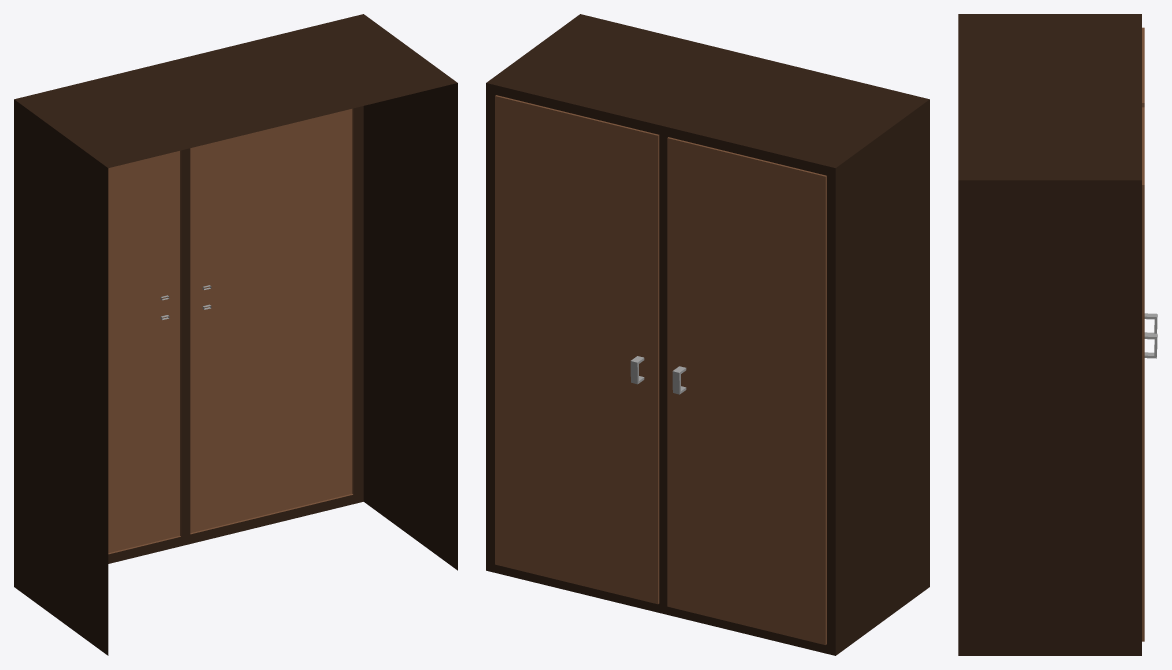
Rendered from dresser_02.fbx.
The picture shows the model from 3 angles, left to right: view 1: azimuth 30°, elevation 25°; view 2: azimuth 150°, elevation 25°; view 3: azimuth 270°, elevation 25°; orthographic projection. The views are drawn at different scales.
Parts seen in each view (by area): view 1: Dresser; view 2: Dresser; view 3: Dresser.
Part boxes in pixels (x1=…): Dresser: x1=14, y1=14, x2=457, y2=655; Dresser: x1=486, y1=14, x2=929, y2=655; Dresser: x1=958, y1=14, x2=1157, y2=655.
Size of the model in its own units: 150 by 200 by 75.91.
